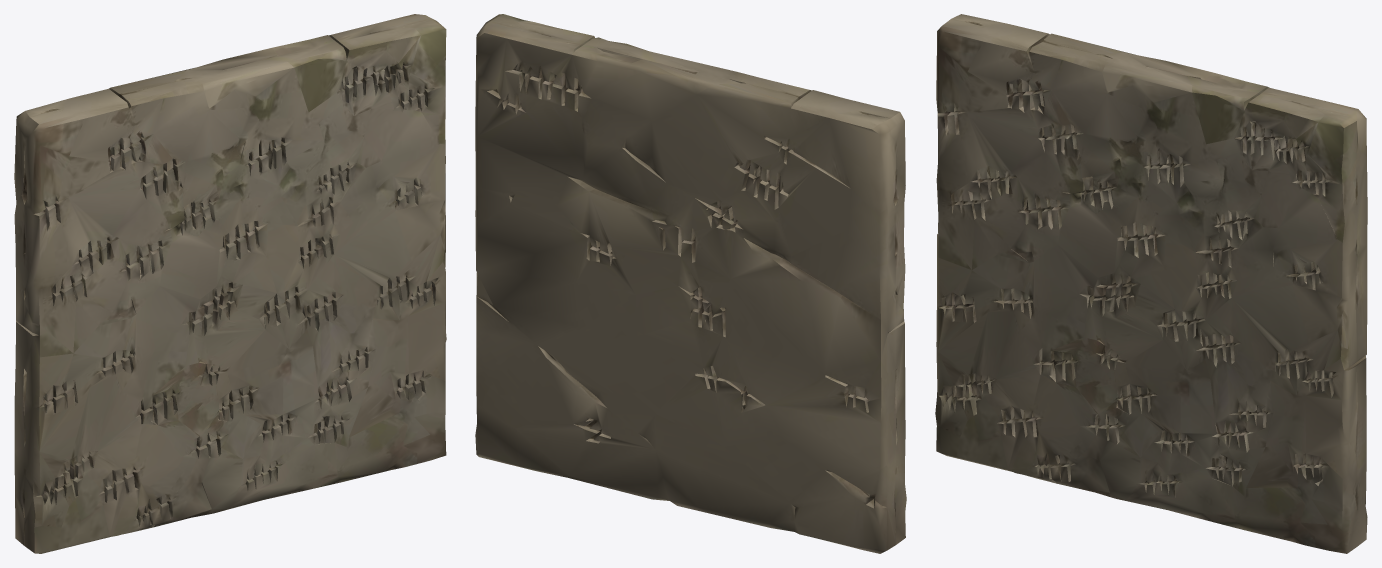
Rendered from prison_wall_cell_idle.glb.
The picture shows the model from 3 angles, left to right: view 1: azimuth 30°, elevation 25°; view 2: azimuth 150°, elevation 25°; view 3: azimuth 330°, elevation 25°; orthographic projection.
Parts seen in each view (by area): view 1: tripo_node_eb2753c3-b65c-4aea-a09c-2fd0d83e4f3b; view 2: tripo_node_eb2753c3-b65c-4aea-a09c-2fd0d83e4f3b; view 3: tripo_node_eb2753c3-b65c-4aea-a09c-2fd0d83e4f3b.
Part boxes in pixels (x1,y1,x2,y2): tripo_node_eb2753c3-b65c-4aea-a09c-2fd0d83e4f3b: (14,14,446,553); tripo_node_eb2753c3-b65c-4aea-a09c-2fd0d83e4f3b: (475,14,906,553); tripo_node_eb2753c3-b65c-4aea-a09c-2fd0d83e4f3b: (935,14,1367,553).
Bounding box in the file's own units: 0.9995 × 1 × 0.1009.
Materials: 1 (1 with a texture image).
